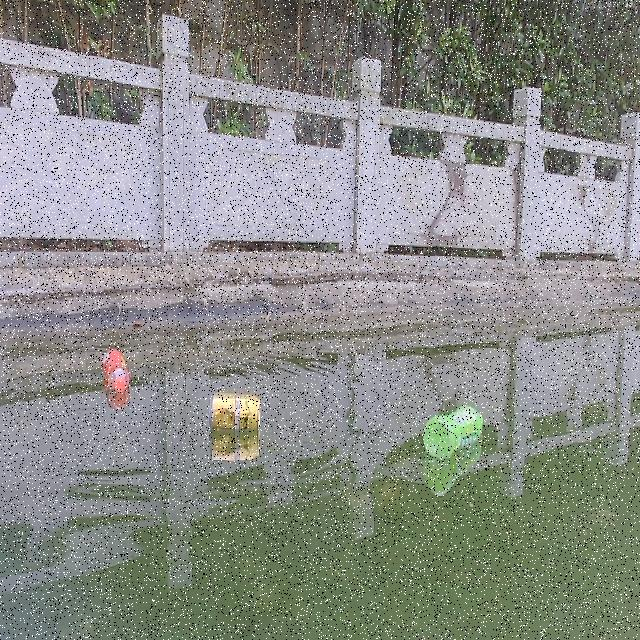Bottle: (418, 403, 485, 460), (102, 346, 130, 398)
Can: (208, 390, 260, 430)
